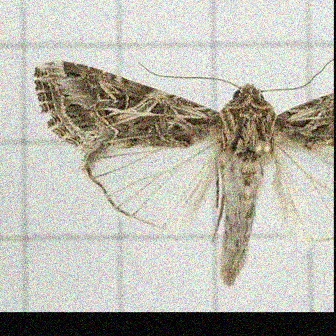Spodoptera litura: (32, 59, 333, 288)
